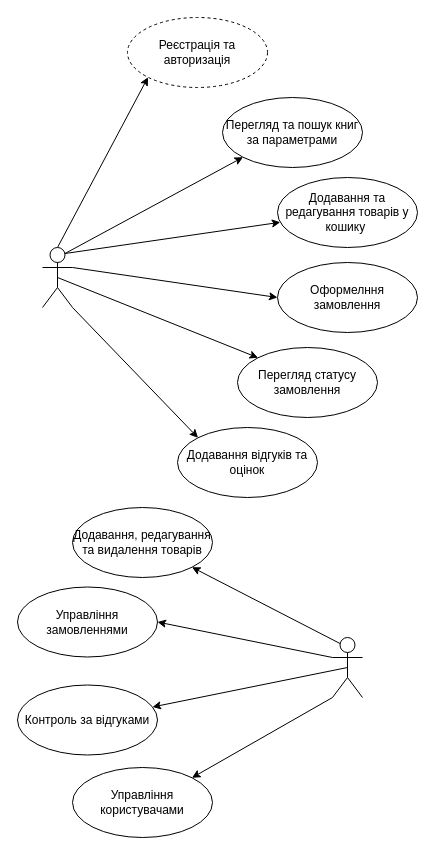
Some shapes in this 435 by 855 pixel diagram are drawn without their labels. The shapes that lost their labels are listed below. From the top down, each one's box as (x1, y1, x2, y2) in pixels, then its label:
(42, 246, 72, 308): Користувач (Покупець)
(332, 636, 362, 698): Адміністратор
